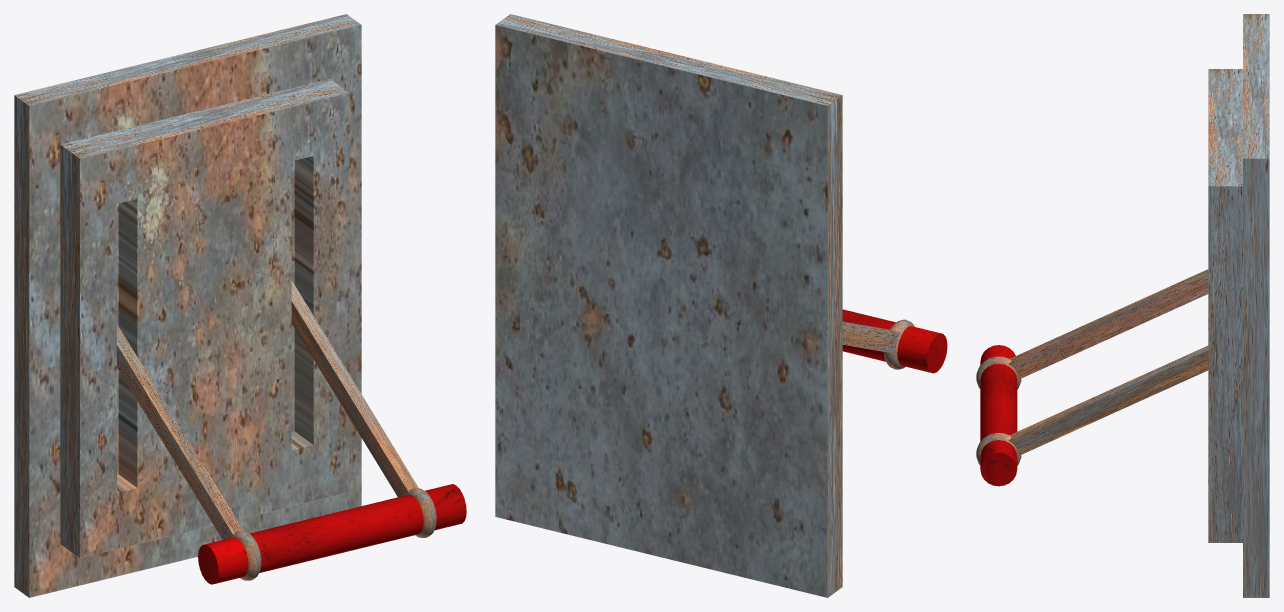
Rendered from AlavancaRE1.fbx.
3 views of the same model, side by side, from view 1: azimuth 30°, elevation 25°; view 2: azimuth 150°, elevation 25°; view 3: azimuth 270°, elevation 25° (orthographic). The views are drawn at different scales.
Visible parts, largest first — view 1: pCube4, pCube1, pCylinder3, pCube5, pCube3, pTorus2, pTorus1; view 2: pCube1, pCylinder3, pCube3; view 3: pCube4, pCube1, pCube3, pCube5, pCylinder3, pTorus1, pTorus2.
Part boxes in pixels (x1,y1,x2,y2): pCube4: [60, 79, 349, 558]; pCube1: [14, 14, 361, 597]; pCylinder3: [198, 484, 466, 584]; pCube5: [291, 280, 418, 497]; pCube3: [117, 324, 243, 539]; pTorus2: [406, 488, 436, 537]; pTorus1: [230, 531, 261, 580]; pCube1: [495, 14, 842, 597]; pCylinder3: [842, 309, 947, 373]; pCube3: [842, 321, 900, 353]; pCube4: [1208, 69, 1242, 542]; pCube1: [1243, 14, 1269, 597]; pCube3: [1009, 269, 1208, 379]; pCube5: [1009, 345, 1208, 455]; pCylinder3: [980, 345, 1017, 486]; pTorus1: [976, 356, 1021, 389]; pTorus2: [976, 433, 1021, 465].
Bounding box in the file's own units: 1.08 × 1.53 × 0.9241.
Materials: 3 (3 with a texture image).
